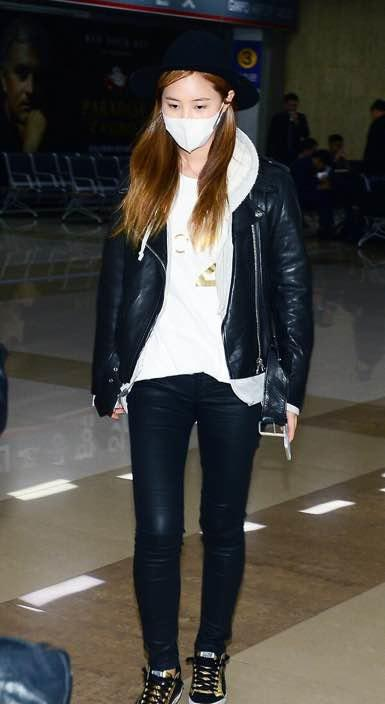OK: (157, 92, 218, 151)
